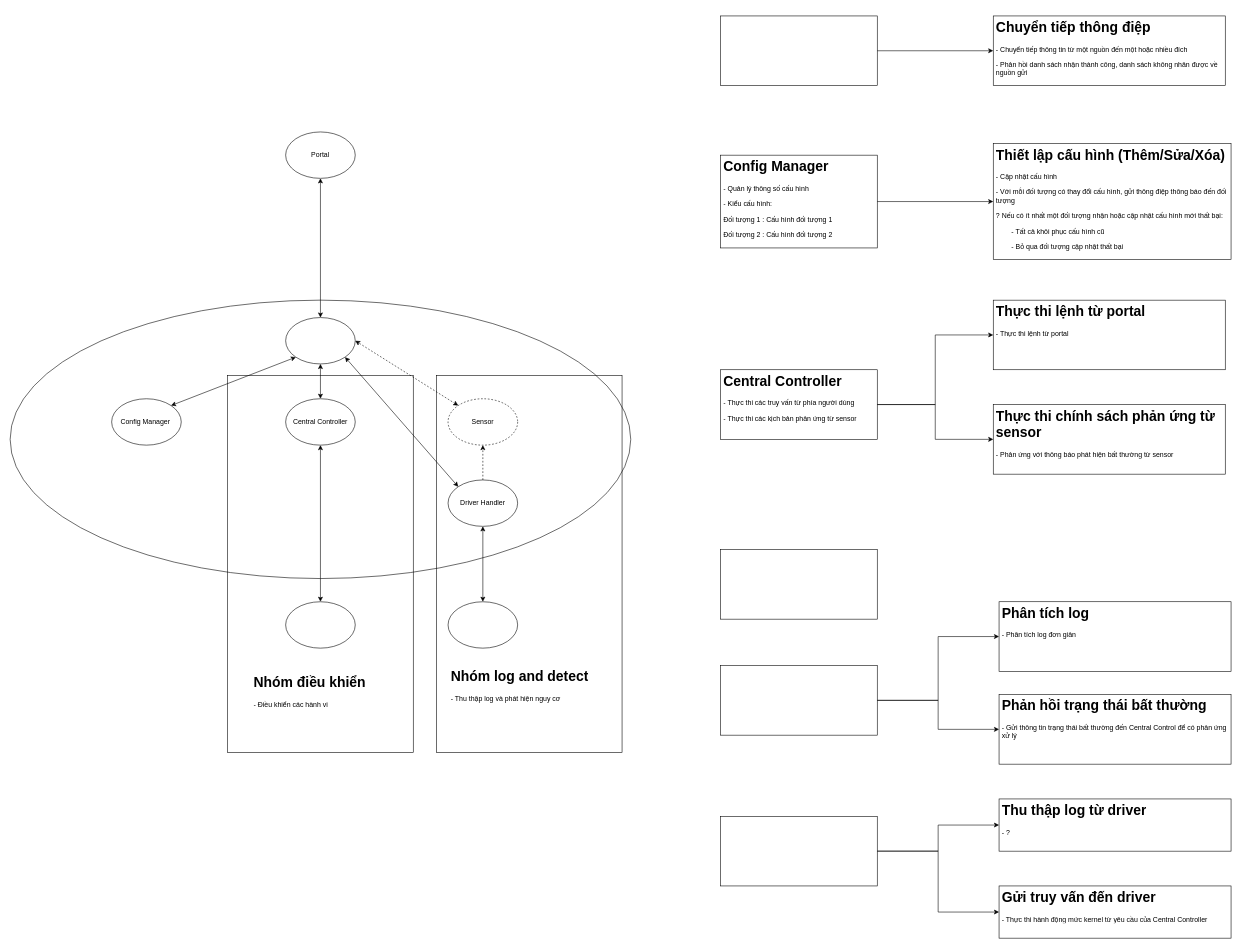
This 1241x948 diagram has some shape labels left out. Here are the shapes that lost their labels. From the top down, the centre of each, then its label:
point 798,50: Message Broker - Đầu mối trao đổi thông tin giữa các thành phần
point 320,340: Mesage Broker
point 798,584: Worker - Thực hiện yêu cầu từ Central Controller
point 320,624: Worker
point 482,624: Driver
point 798,700: Sensor - Phân tích log và cảnh báo Centran Controller những bất thường trong log
point 798,851: Driver Handler - Giao tiếp với Driver
